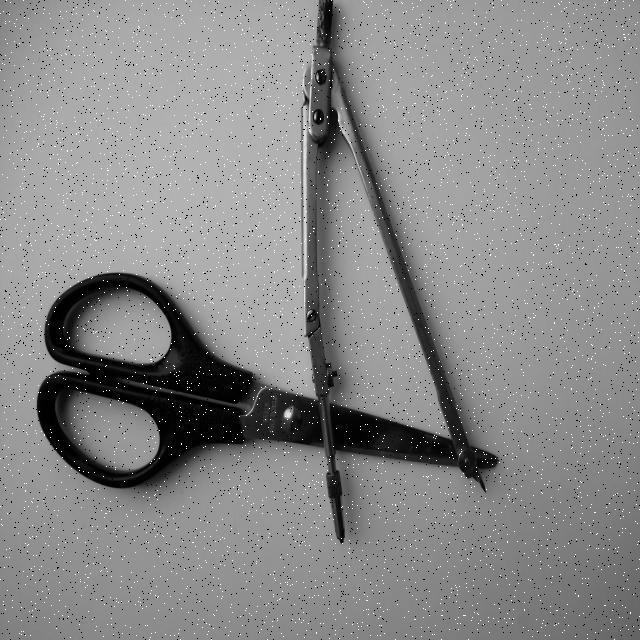scissors: (26, 253, 501, 502)
